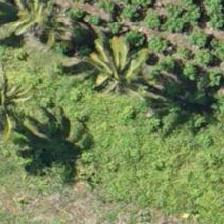coconut_tree: (75, 28, 165, 118), (0, 0, 73, 75), (0, 53, 45, 143)
